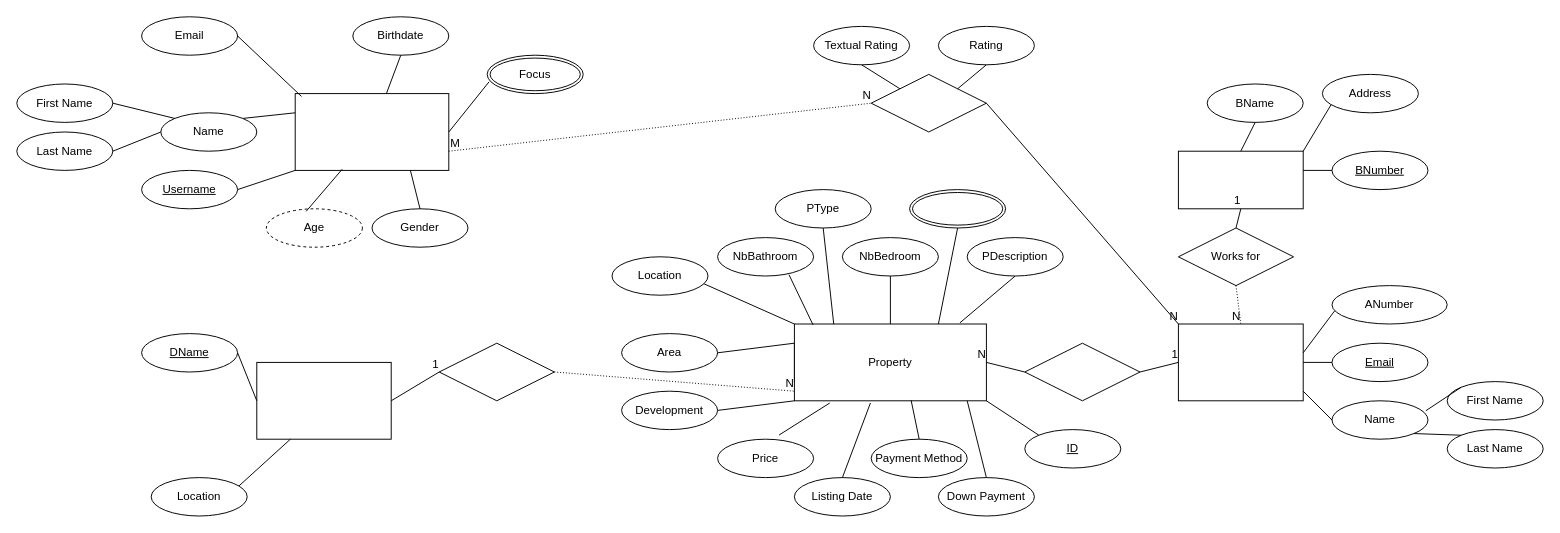
Image size: 1560x533. Some labels were removed from this diagram. Each missing label, with the centre of its shape:
"Agent" goes at [1240,362].
"Amenities" goes at [957,208].
"App User" goes at [371,131].
"Broker Company" goes at [1240,179].
"Development Project" goes at [323,400].
"Listed by" goes at [1082,371].
"Located in" goes at [496,371].
"Review" goes at [928,102].
